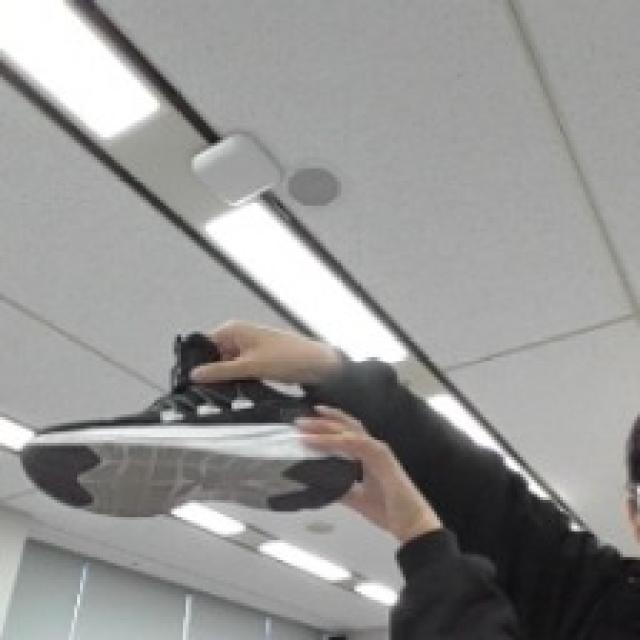shoes: (29, 247, 400, 586)
